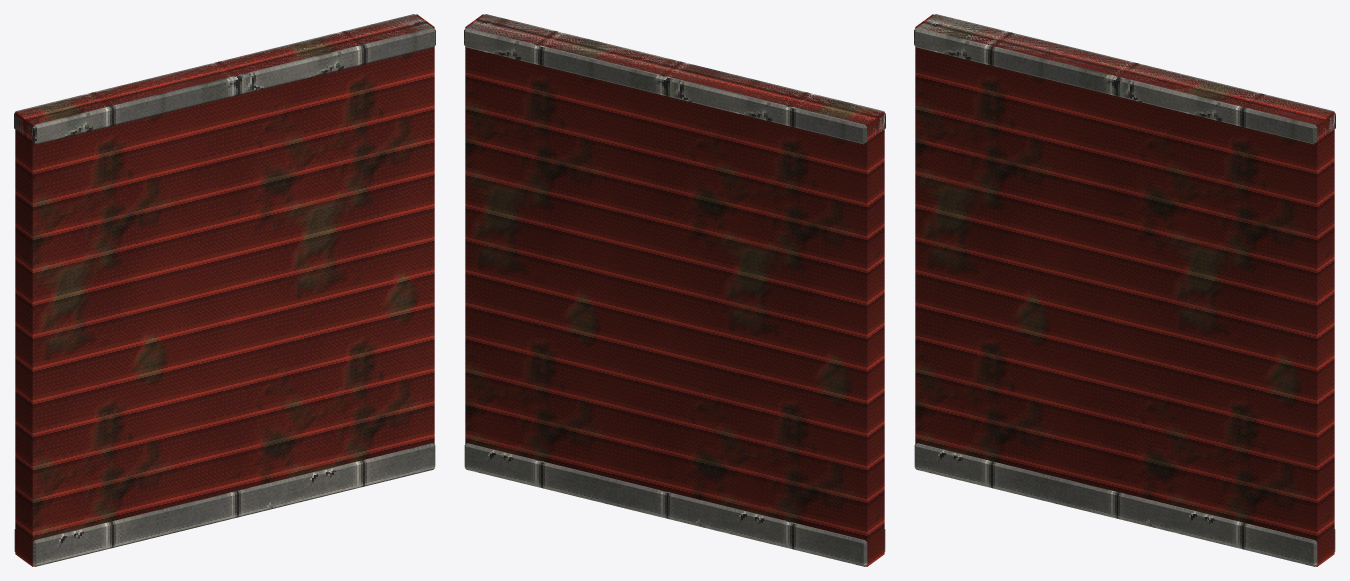
File: wall_siding_red.glb
3 renders of one model, left to right at view 1: azimuth 30°, elevation 25°; view 2: azimuth 150°, elevation 25°; view 3: azimuth 330°, elevation 25°, orthographic.
Visible parts, largest first — view 1: wall_siding_red_mesh; view 2: wall_siding_red_mesh; view 3: wall_siding_red_mesh.
Part boxes in pixels (<box>): wall_siding_red_mesh: <box>14,14,435,566</box>; wall_siding_red_mesh: <box>464,14,885,566</box>; wall_siding_red_mesh: <box>914,14,1335,566</box>.
Size of what is drawn, in the model's own units: 4 by 4.2 by 0.38.
2 materials, 2 textured.
